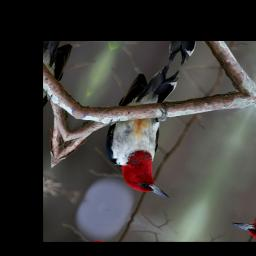Woodpecker: (86, 54, 226, 203)
